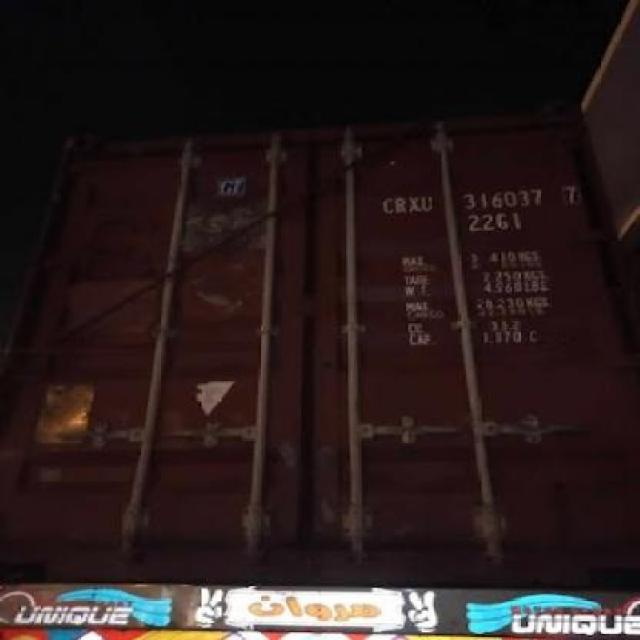ISO: (468, 212, 530, 234)
container_number: (384, 182, 574, 212)
